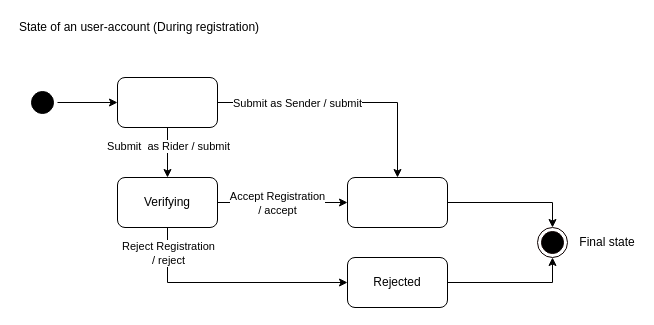
This 654x325 diagram has some shape labels left out. The centre of each missing label's shape, as x and y in pixels:
Active: the point at 397,202
Signing Up: the point at 167,102
